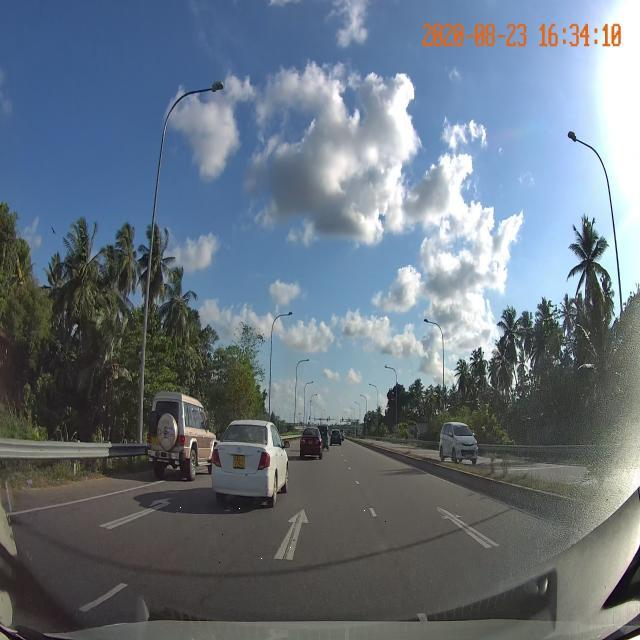forward: (177, 503, 394, 568)
